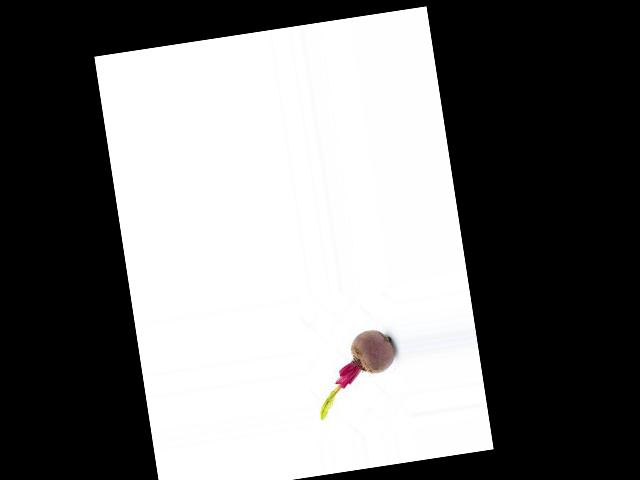beet: (309, 326, 402, 419)
